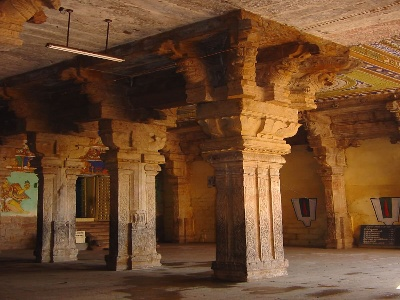mandapa: (18, 38, 348, 280)
